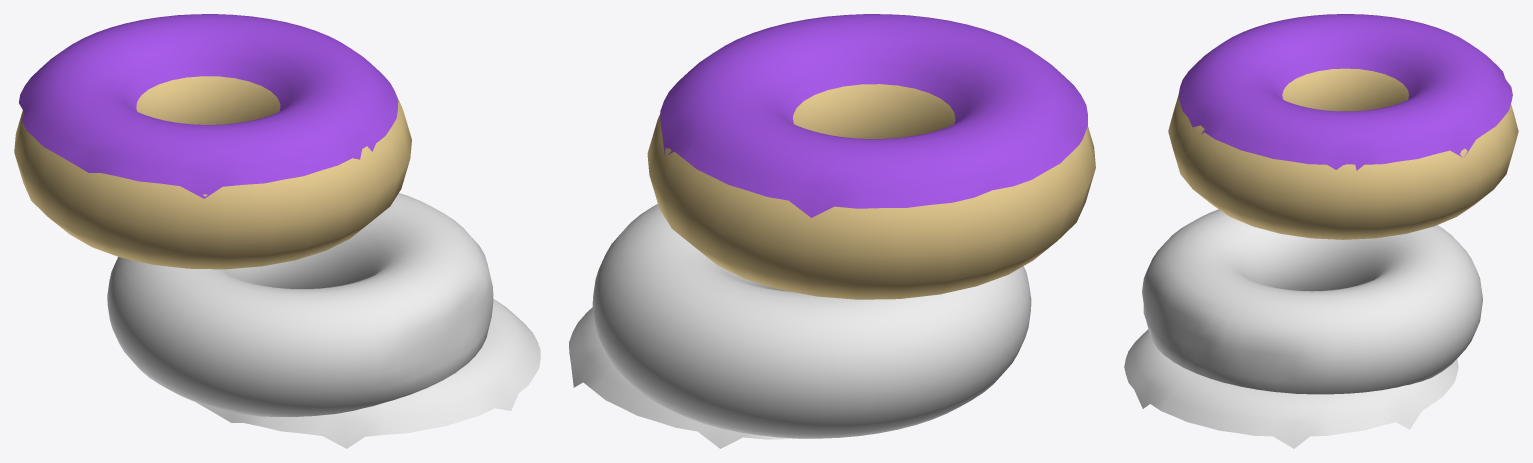
File: donut.glb
The picture shows the model from 3 angles, left to right: view 1: azimuth 30°, elevation 25°; view 2: azimuth 150°, elevation 25°; view 3: azimuth 270°, elevation 25°; orthographic projection. The views are drawn at different scales.
Visible parts, largest first — view 1: Donut, Icing_original, Donut_original, Icing; view 2: Donut, Icing_original, Donut_original, Icing; view 3: Donut, Icing_original, Donut_original, Icing.
Boxes of the visible parts, bbox=[...] form: Donut: bbox=[107, 193, 493, 417]; Icing_original: bbox=[19, 14, 398, 198]; Donut_original: bbox=[14, 76, 411, 269]; Icing: bbox=[197, 298, 540, 448]; Donut: bbox=[592, 204, 1031, 438]; Icing_original: bbox=[660, 14, 1087, 217]; Donut_original: bbox=[647, 84, 1095, 299]; Icing: bbox=[569, 307, 815, 448]; Donut: bbox=[1142, 209, 1482, 394]; Icing_original: bbox=[1178, 14, 1512, 170]; Donut_original: bbox=[1168, 68, 1518, 239]; Icing: bbox=[1124, 329, 1458, 448].
Size of what is drawn, in the model's own units: 0.1964 by 0.1259 by 0.171.
